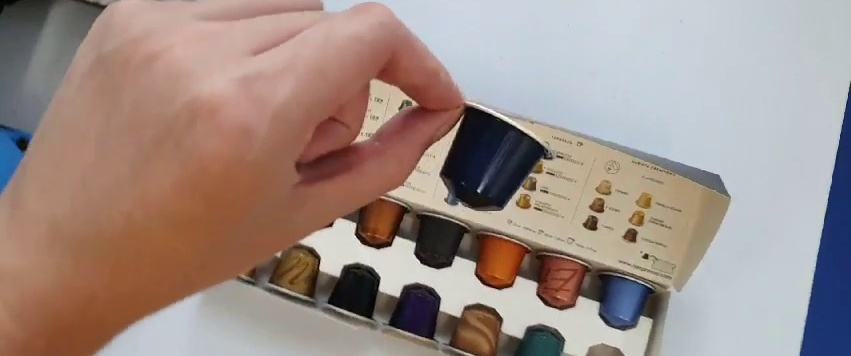capsule_1: (440, 98, 554, 214)
